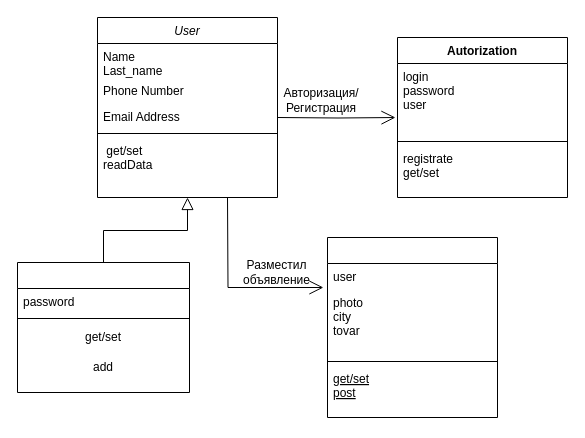
Some shapes in this 585 by 438 pixel diagram are drawn without their labels. The box of each missing label's shape, as (x1, y1, x2, y2) in pixels:
Admistrator: (16, 262, 190, 392)
Announcment: (326, 236, 498, 418)
